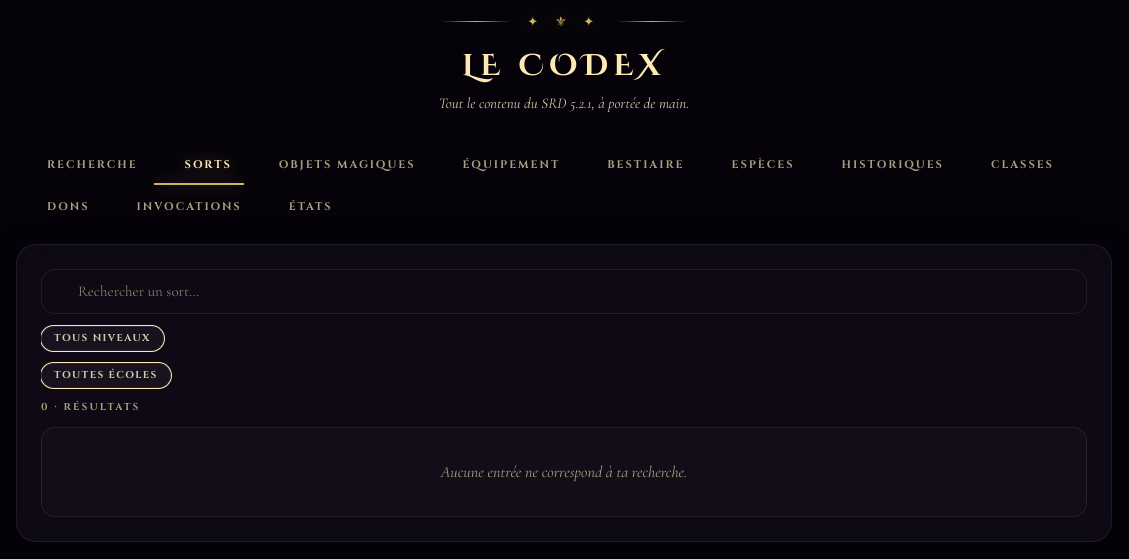
it: CodexScreen › bascule vers Objets magiques puis Équipement
Step 1. Click the tab "Objets magiques" → (338, 166), box 248,147 -> 428,185
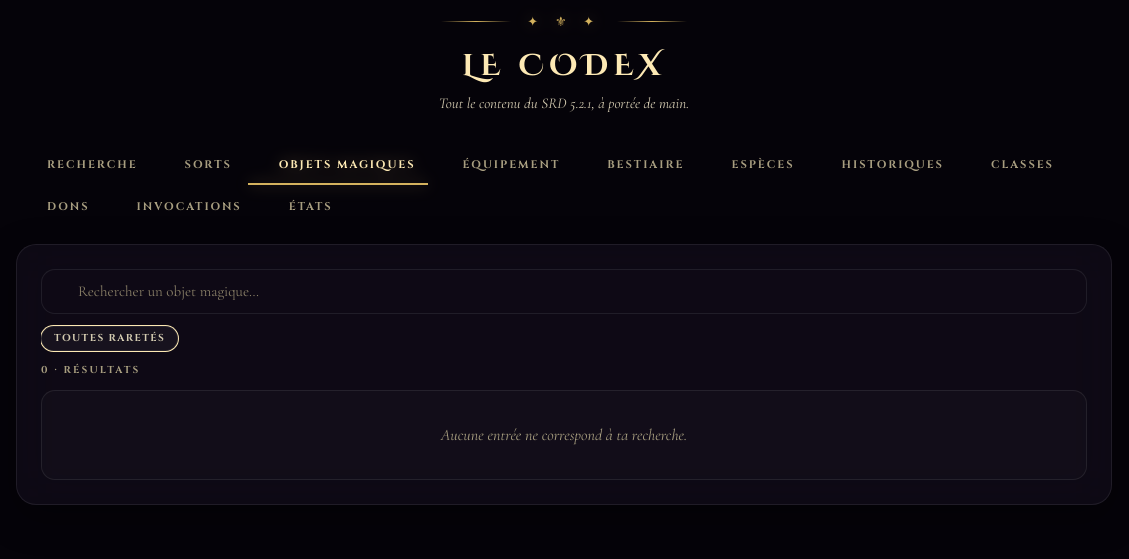
Expected: the field with placeholder "Rechercher un objet magique…" is shown, 78,280 -> 1074,303
Step 2. Click the tab "Équipement" → (502, 166), box 432,147 -> 572,185
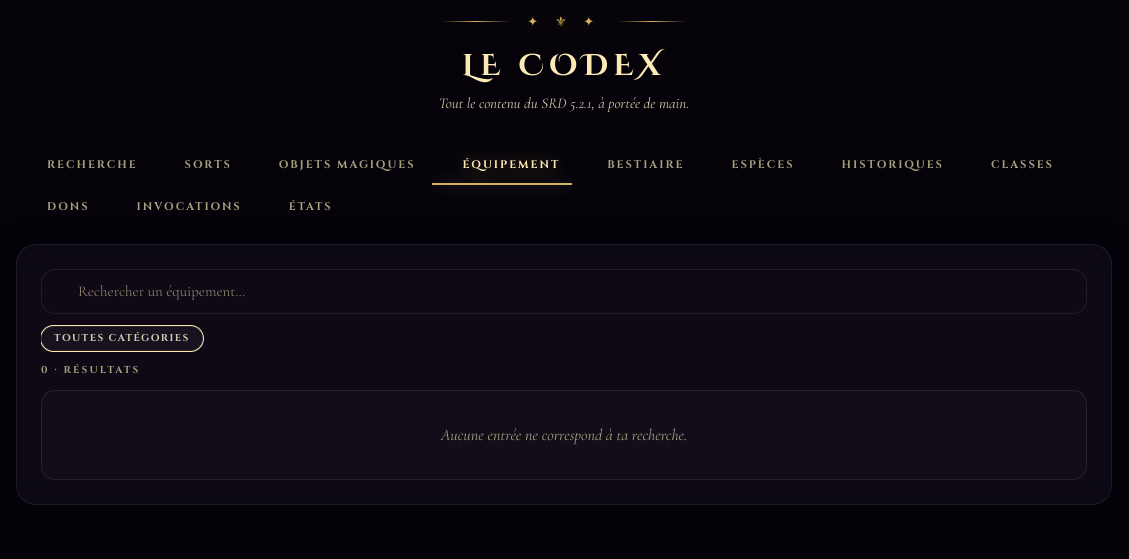
Expected: the field with placeholder "Rechercher un équipement…" is shown, 78,280 -> 1074,303
